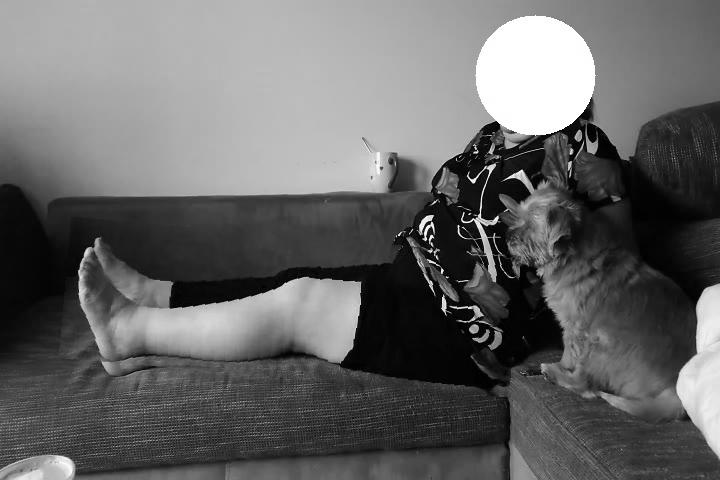lower_body: (62, 228, 520, 389)
